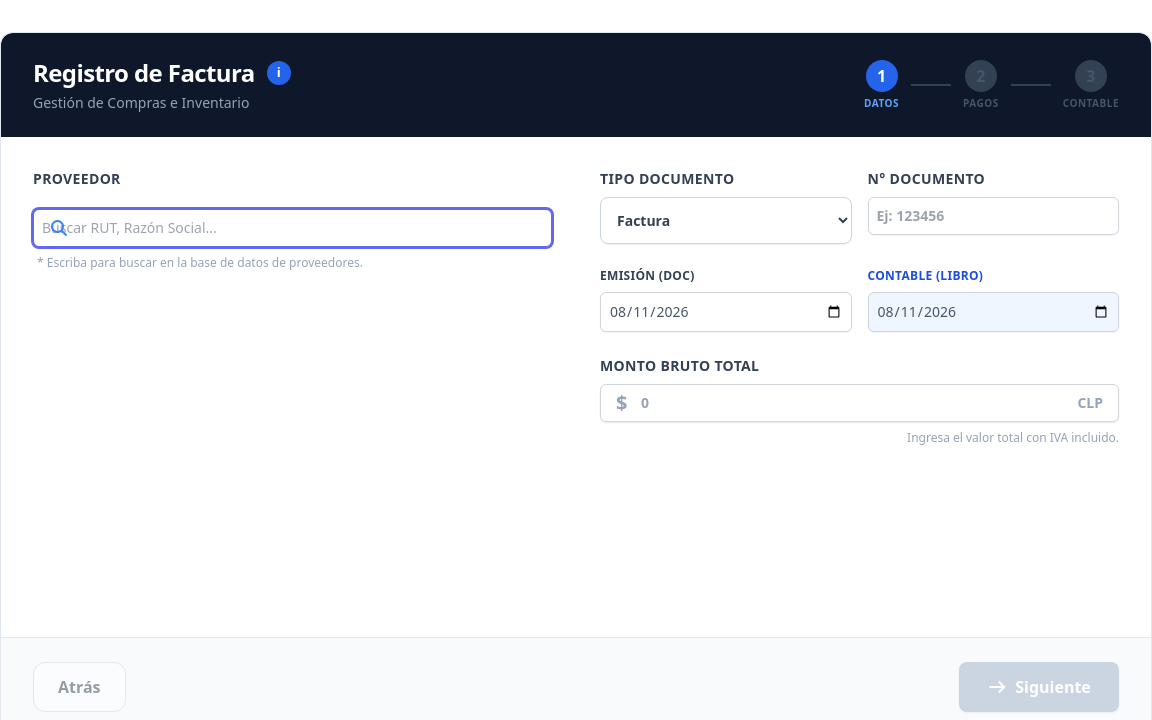
Test: RegistroFactura - tipo Nota de Credito (FIX: factura_referencia_id) › al cambiar de NC a FACTURA, el campo desaparece
Expected: the heading "Registro de Factura" is shown, [33,57,255,89]
Select "Nota de Crédito" in the dropdown showing "Factura" at (726, 220), box [600,197,852,244]
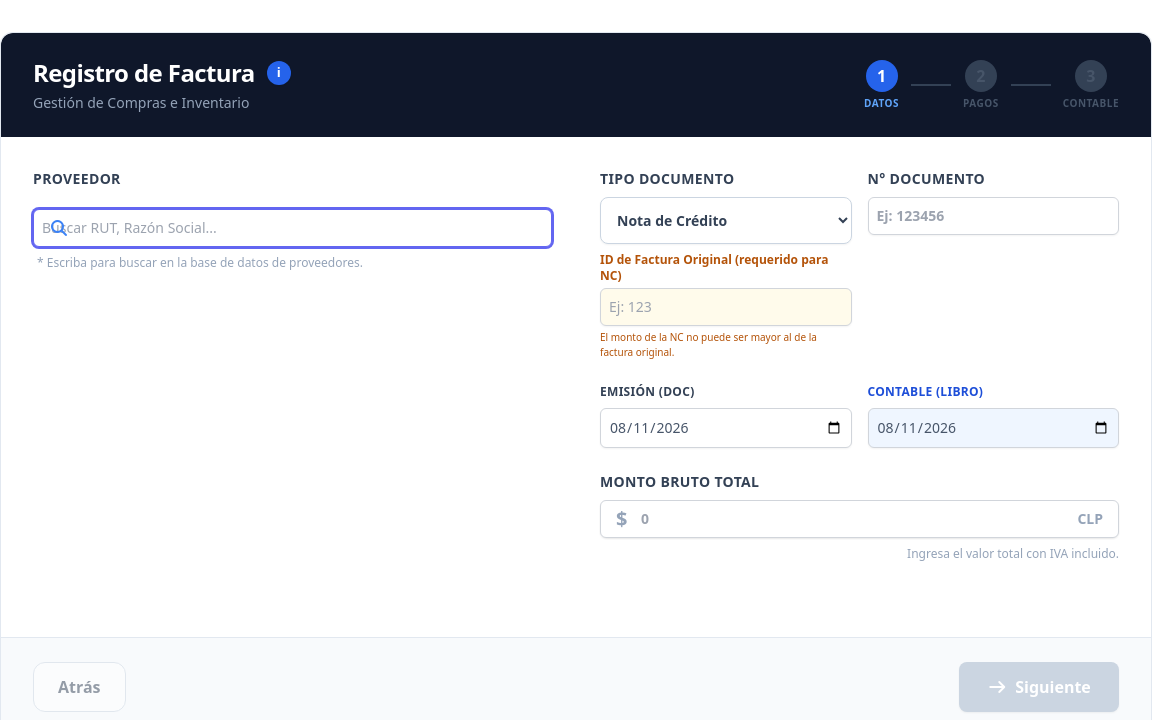
Result: the text "ID de Factura Original (requerido para NC)" is shown at [600,252,852,284]
Select "Factura" in the dropdown showing "Factura" at (726, 220), box [600,197,852,244]
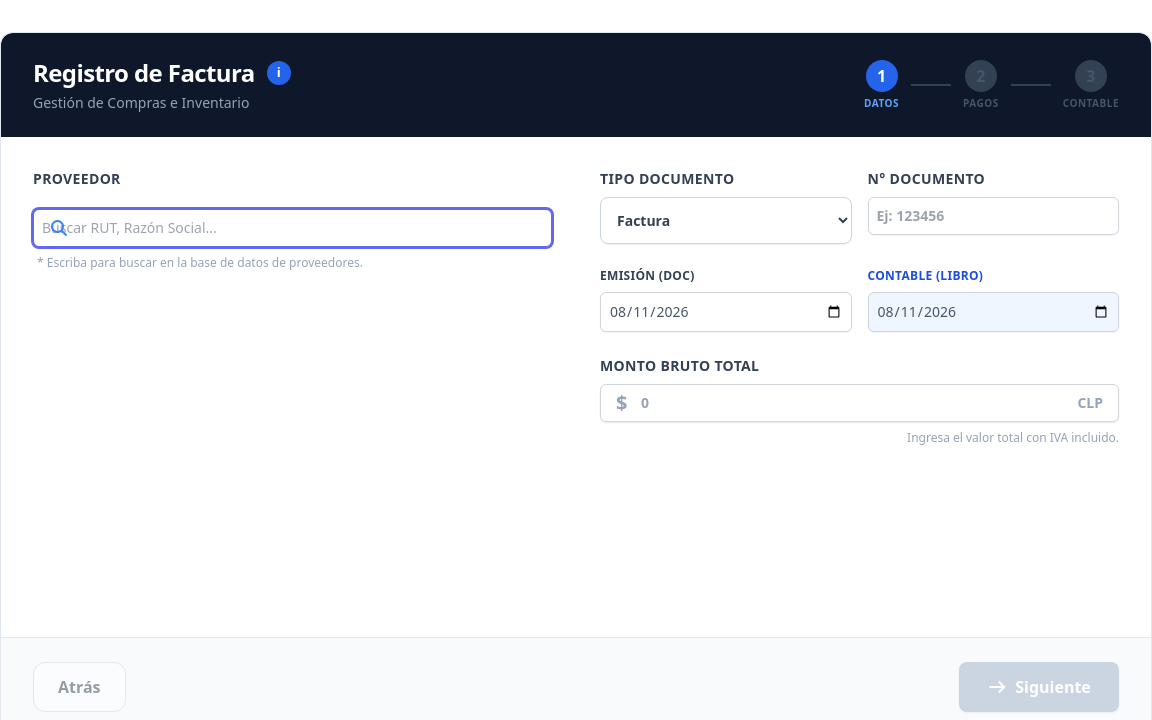
Result: the text "ID de Factura Original" is gone
